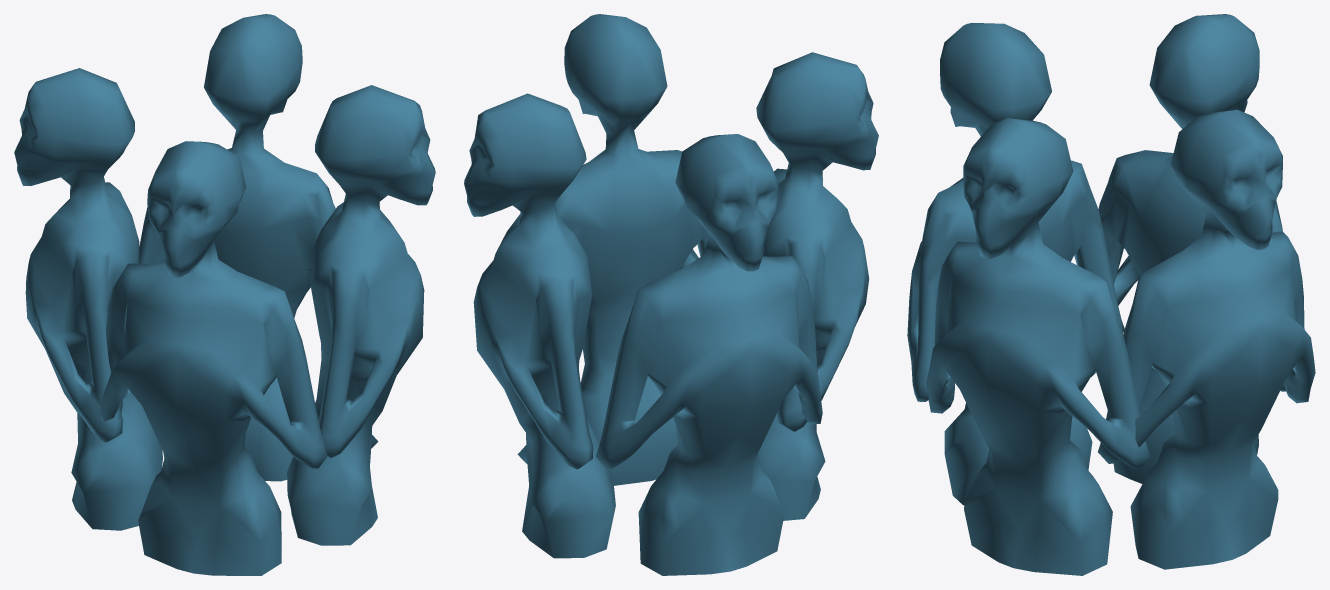
File: Statues_Grp_01_Lod1.fbx
3 views of the same model, side by side, from view 1: azimuth 30°, elevation 25°; view 2: azimuth 150°, elevation 25°; view 3: azimuth 270°, elevation 25° (orthographic). The views are drawn at different scales.
Parts seen in each view (by area): view 1: Statues_Grp_01_Lod1; view 2: Statues_Grp_01_Lod1; view 3: Statues_Grp_01_Lod1.
Part boxes in pixels (x1,y1,x2,y2): Statues_Grp_01_Lod1: [14, 14, 435, 575]; Statues_Grp_01_Lod1: [464, 14, 878, 575]; Statues_Grp_01_Lod1: [907, 14, 1315, 575].
Size of the model in its own units: 165 by 212 by 175.
